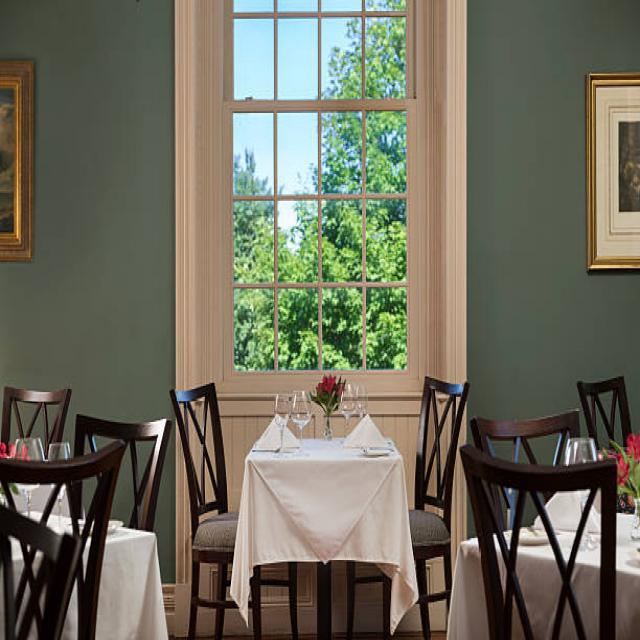Chair: (168, 369, 250, 637), (405, 372, 470, 640)
Table: (238, 424, 410, 636)
Window: (195, 0, 465, 391)
